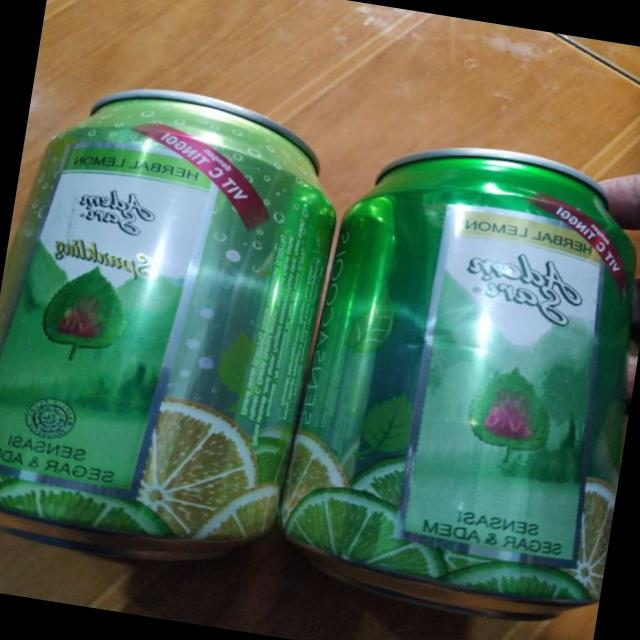ademsarikaleng: (271, 122, 640, 633), (0, 66, 354, 583)
